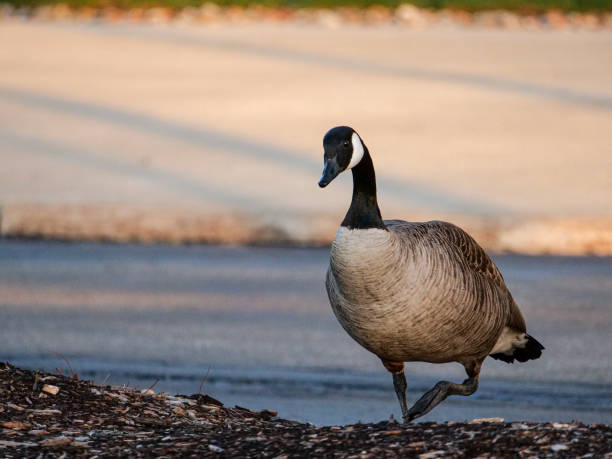goose: (315, 123, 549, 426)
